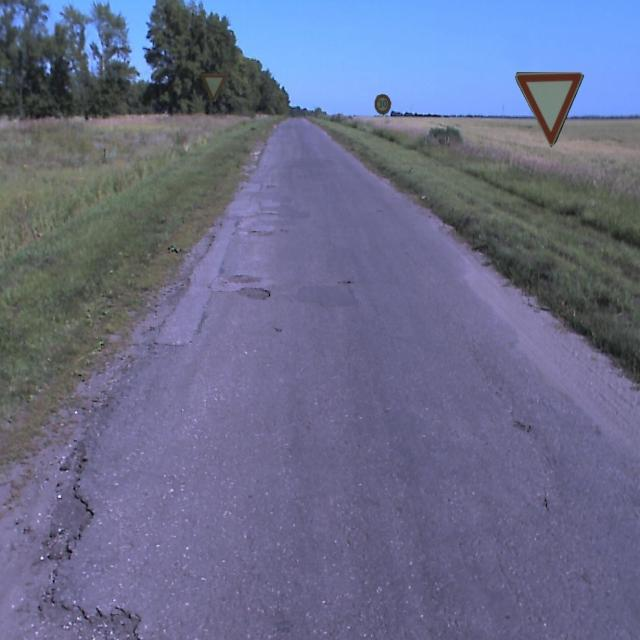road: (25, 118, 639, 639)
